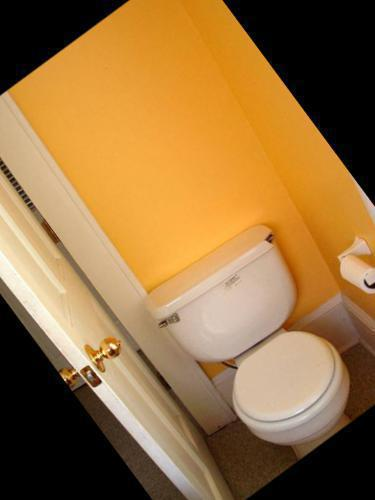Sanitario: (133, 215, 375, 481)
